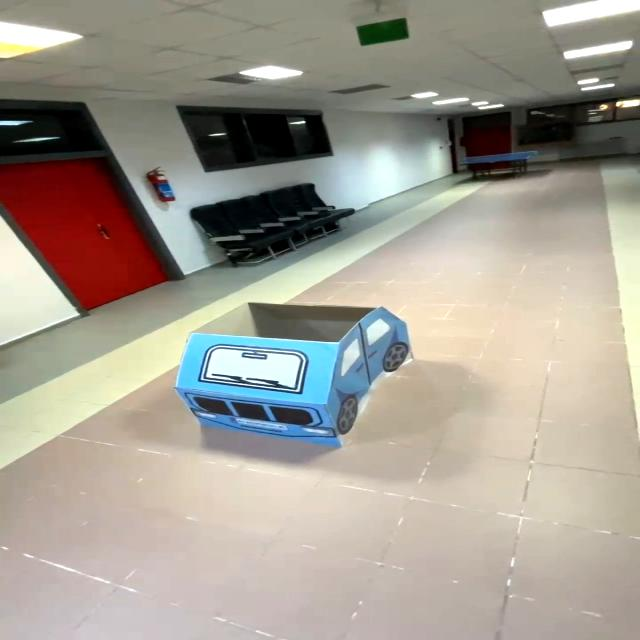blue_car: (137, 286, 452, 463)
